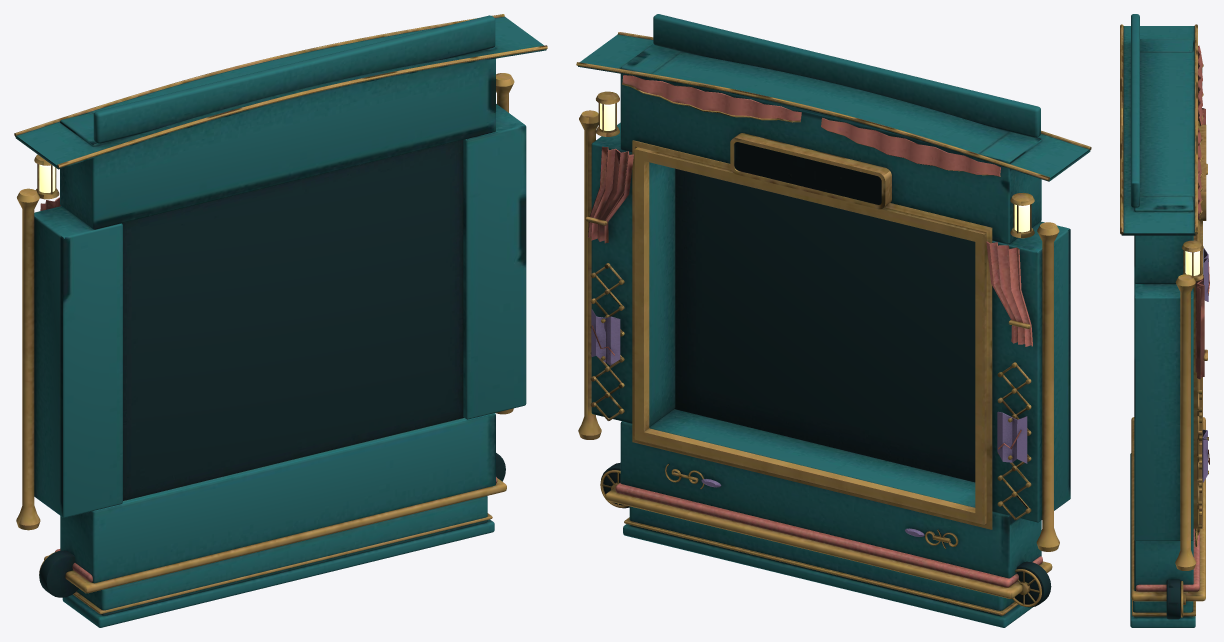
The picture shows the model from 3 angles, left to right: view 1: azimuth 30°, elevation 25°; view 2: azimuth 150°, elevation 25°; view 3: azimuth 270°, elevation 25°; orthographic projection. The views are drawn at different scales.
Visible parts, largest first — view 1: Teal_woven_canvas, Dark_petrol_enamel, Aged_brushed_brass; view 2: Teal_woven_canvas, Dark_petrol_enamel, Aged_brushed_brass, Coral_cloth, Violet_folded_paper, Lantern_amber_glow; view 3: Teal_woven_canvas, Aged_brushed_brass, Coral_cloth, Dark_petrol_enamel, Violet_folded_paper, Lantern_amber_glow.
Boxes of the visible parts, x1,y1,x2,y2 form: Teal_woven_canvas: [15, 15, 546, 627]; Dark_petrol_enamel: [39, 140, 505, 597]; Aged_brushed_brass: [14, 14, 547, 614]; Teal_woven_canvas: [578, 14, 1090, 627]; Dark_petrol_enamel: [601, 142, 1051, 607]; Aged_brushed_brass: [576, 32, 1091, 615]; Coral_cloth: [588, 75, 1042, 587]; Violet_folded_paper: [591, 309, 1027, 536]; Lantern_amber_glow: [600, 103, 1029, 232]; Teal_woven_canvas: [1121, 14, 1195, 627]; Aged_brushed_brass: [1120, 24, 1208, 617]; Coral_cloth: [1135, 45, 1209, 591]; Dark_petrol_enamel: [1166, 579, 1180, 619]; Violet_folded_paper: [1202, 248, 1208, 482]; Lantern_amber_glow: [1185, 251, 1199, 275].
Bounding box in the file's own units: 9.88 × 9.8 × 1.79.
Materials: 6 (5 with a texture image).
